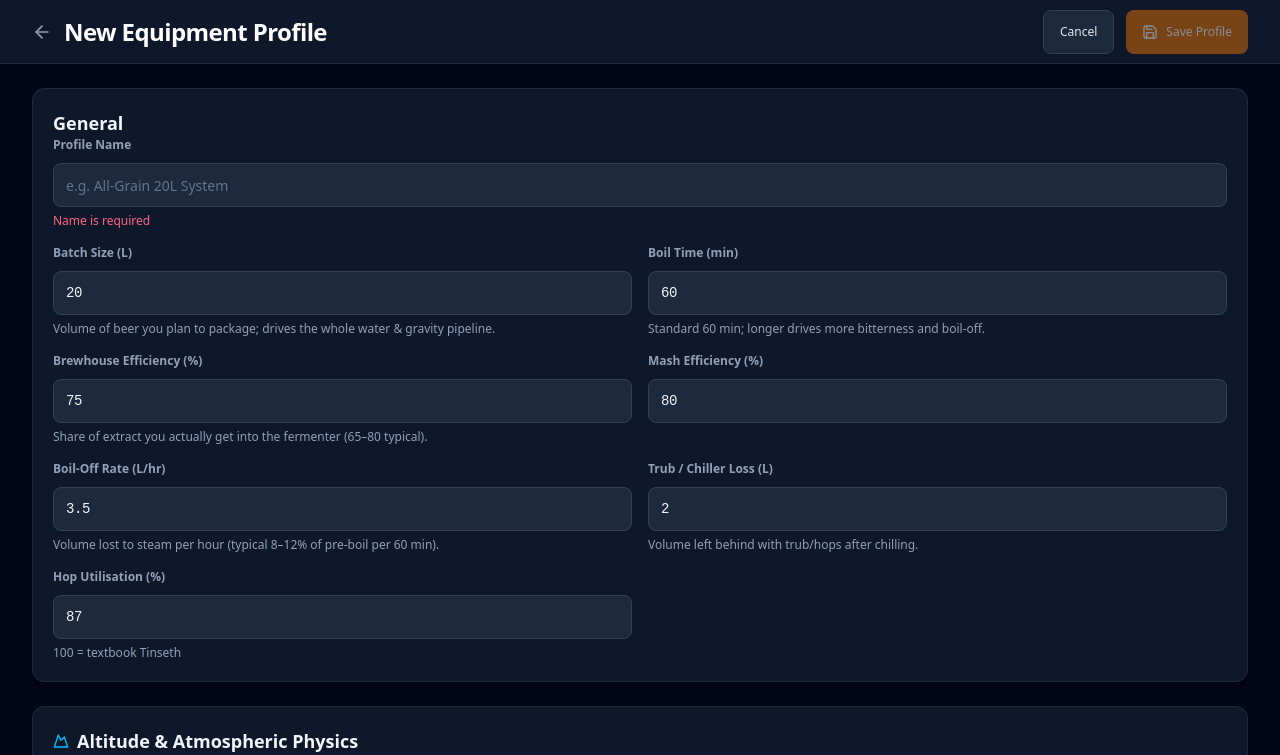
Scenario: AC-25..AC-27: brewing-guidance captions via FormField hint › AC-27: when a field has an error its hint is suppressed
The width and height of the screenshot is (1280, 755).
Check: the text "Volume of beer you plan to package; drives the whole water & gravity pipeline." is shown, box [53,320,495,337]
Note: batchSizeL is exclusiveMin 0 — setting it to 0 is invalid.
Step 1. Replace the text in the number field with test id "equipment-field-batchSizeL" with "0" → (342, 293), box [53,271,632,315]
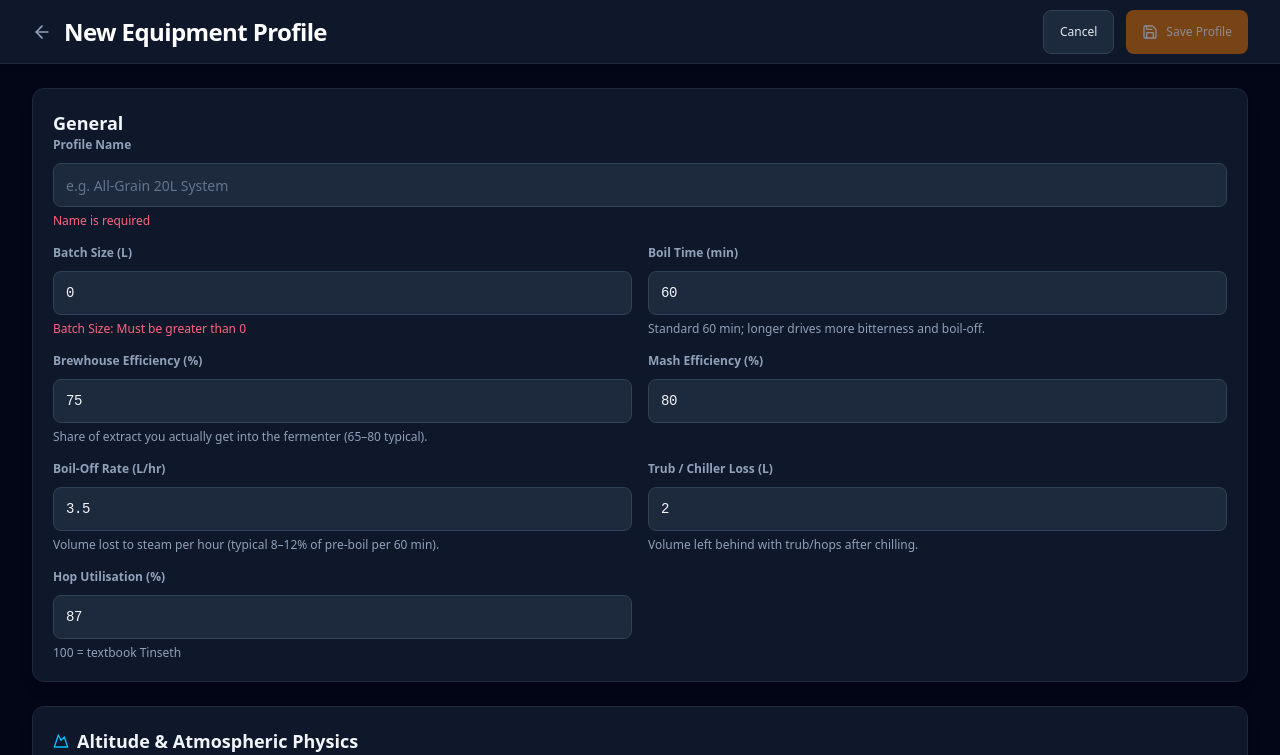
Check: the text "Batch Size: Must be greater than 0" is shown, box [53,320,246,337]
Check: the text "Volume of beer you plan to package; drives the whole water & gravity pipeline." is gone
